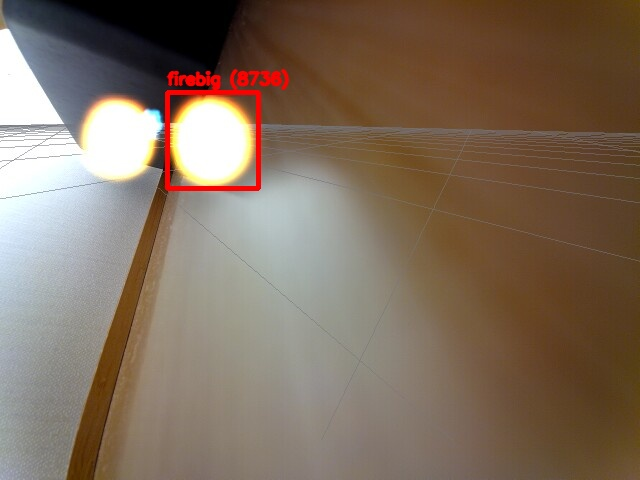firebig: (167, 92, 258, 188)
